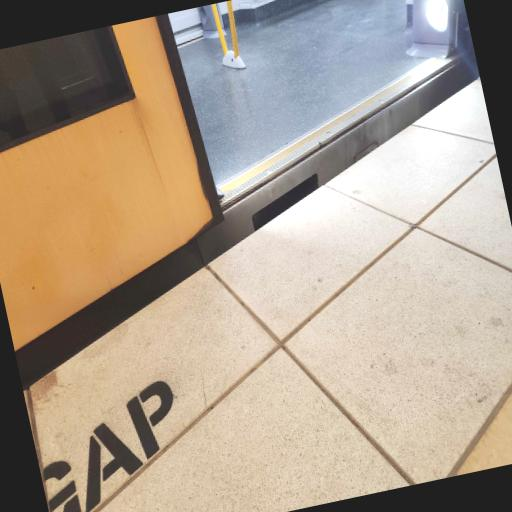gap: (15, 59, 476, 390)
